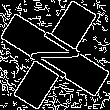N_SE: (23, 25, 87, 85)
